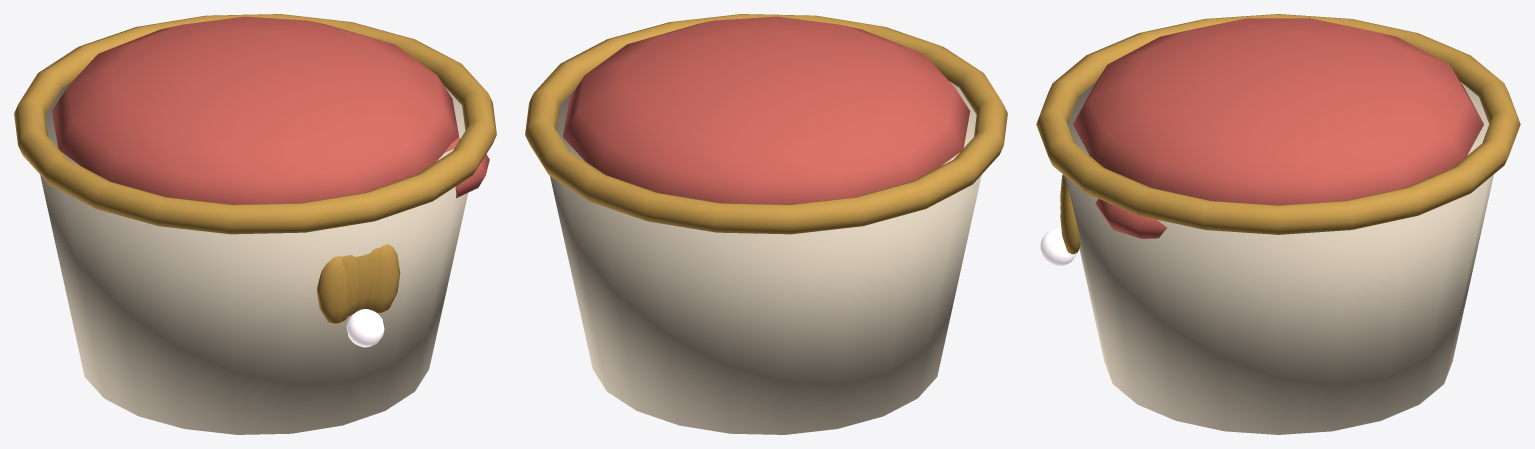
Rendered from opera_painter_pot_0.glb.
3 renders of one model, left to right at view 1: azimuth 30°, elevation 25°; view 2: azimuth 150°, elevation 25°; view 3: azimuth 270°, elevation 25°, orthographic.
Parts seen in each view (by area): view 1: VisualMesh; view 2: VisualMesh; view 3: VisualMesh.
Part boxes in pixels (bbox=[...]): VisualMesh: bbox=[14, 14, 496, 434]; VisualMesh: bbox=[525, 14, 1007, 434]; VisualMesh: bbox=[1036, 14, 1520, 434].
Bounding box in the file's own units: 2.78 × 1.91 × 2.78.
